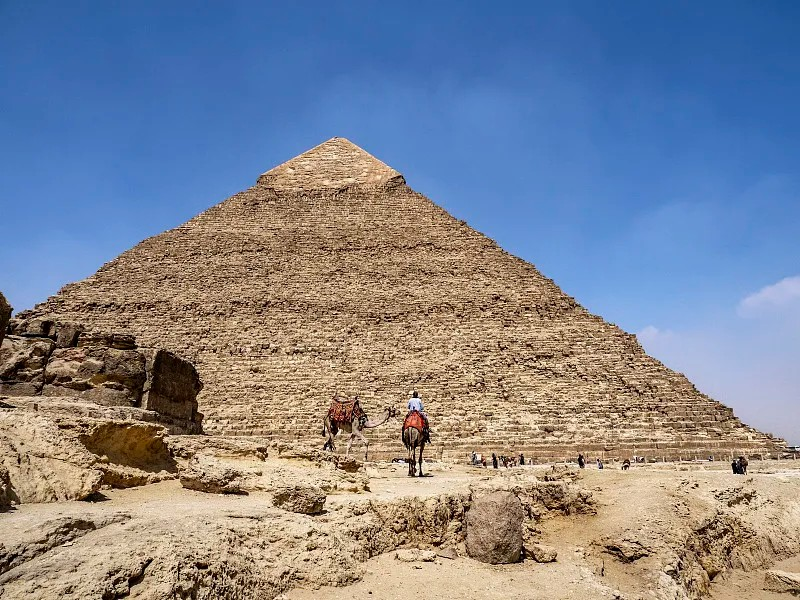Pyramid: (17, 136, 796, 458)
